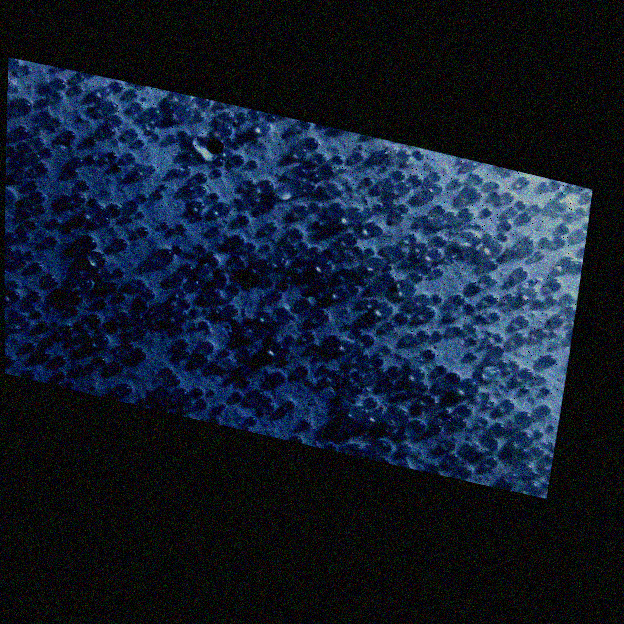GrassBeadSeg: (18, 64, 534, 378), (27, 111, 508, 435), (17, 63, 390, 462), (6, 162, 498, 464), (72, 156, 565, 430), (65, 169, 552, 444), (4, 127, 552, 364), (152, 132, 519, 467), (93, 177, 526, 456), (34, 206, 473, 473), (15, 190, 567, 397), (41, 84, 543, 307), (26, 155, 426, 430), (75, 72, 421, 359), (14, 124, 312, 426), (5, 148, 390, 374), (56, 86, 310, 426), (166, 182, 587, 383), (6, 120, 272, 421), (92, 214, 467, 427), (97, 85, 489, 287), (33, 136, 392, 353), (51, 77, 303, 383), (141, 175, 450, 418), (37, 168, 303, 442), (103, 206, 548, 368), (33, 148, 424, 331), (50, 116, 435, 301), (8, 58, 219, 384), (79, 94, 296, 409), (232, 153, 556, 362), (100, 99, 398, 321), (6, 162, 386, 336), (26, 219, 444, 375), (132, 178, 545, 335), (16, 182, 444, 333), (45, 235, 567, 358), (19, 166, 362, 350), (114, 167, 337, 450), (109, 80, 310, 374), (98, 220, 558, 346), (114, 105, 329, 372), (46, 119, 312, 333), (133, 101, 366, 345), (260, 178, 559, 365), (123, 107, 568, 232), (172, 205, 507, 367), (163, 300, 470, 476), (110, 114, 571, 231), (193, 181, 436, 402), (135, 225, 433, 405), (103, 269, 441, 425), (30, 137, 282, 346), (19, 212, 416, 343), (249, 158, 547, 332), (169, 249, 530, 392), (43, 273, 524, 378), (182, 211, 575, 338), (180, 264, 516, 410), (160, 220, 462, 381), (147, 106, 327, 371), (63, 165, 531, 264), (53, 265, 529, 361), (129, 345, 494, 464), (173, 314, 477, 455), (30, 189, 418, 299), (265, 153, 431, 410), (94, 155, 373, 307), (169, 167, 429, 329), (247, 159, 474, 343), (373, 189, 551, 422), (351, 150, 509, 408), (83, 137, 241, 395), (303, 135, 562, 288), (5, 114, 277, 255), (25, 307, 564, 378), (356, 142, 577, 314), (111, 214, 432, 331), (165, 133, 508, 241), (132, 96, 363, 255), (39, 256, 540, 329), (175, 222, 403, 375), (318, 285, 543, 436), (230, 273, 497, 400), (229, 178, 431, 339), (197, 186, 420, 327), (79, 83, 264, 249), (243, 320, 460, 461), (206, 279, 417, 423), (378, 228, 528, 422), (55, 201, 233, 364), (25, 85, 193, 257), (49, 90, 344, 187), (135, 227, 498, 304), (125, 87, 341, 216), (5, 353, 411, 419), (369, 292, 578, 419), (305, 298, 529, 414), (15, 128, 246, 237), (306, 206, 493, 340), (170, 181, 411, 283), (203, 347, 515, 423), (113, 266, 258, 424), (103, 246, 375, 330), (14, 96, 104, 345), (17, 69, 97, 349), (223, 270, 527, 343), (35, 347, 551, 390), (29, 156, 374, 218), (269, 289, 474, 393), (420, 188, 566, 323), (302, 158, 377, 407), (411, 210, 546, 341), (188, 307, 396, 391), (242, 258, 498, 325), (6, 146, 117, 300), (70, 110, 249, 205), (28, 290, 290, 354), (13, 256, 413, 296), (449, 259, 551, 413), (439, 296, 569, 416), (333, 237, 492, 335), (26, 255, 160, 370), (449, 275, 528, 462), (158, 248, 345, 327), (413, 235, 499, 392), (355, 142, 493, 238), (6, 227, 407, 259), (8, 68, 174, 145), (436, 338, 545, 454), (68, 127, 139, 303), (9, 127, 93, 272), (19, 171, 320, 211), (410, 356, 530, 455), (173, 310, 294, 407), (7, 222, 187, 287), (34, 223, 159, 316), (87, 249, 424, 281), (35, 137, 176, 213), (121, 338, 275, 406), (22, 340, 251, 385), (376, 350, 477, 452), (34, 161, 343, 194), (45, 234, 292, 275), (514, 180, 548, 473), (213, 136, 414, 184), (146, 309, 351, 356), (373, 305, 436, 449), (243, 298, 377, 364), (344, 384, 468, 452), (382, 164, 532, 220), (192, 171, 275, 272), (194, 117, 257, 250), (50, 237, 269, 274), (393, 312, 473, 413), (115, 298, 224, 371), (295, 145, 436, 199), (243, 278, 340, 354), (388, 292, 442, 422), (264, 197, 482, 229), (484, 331, 555, 429), (178, 298, 360, 336), (236, 213, 307, 309), (24, 135, 97, 226), (36, 122, 116, 205), (183, 247, 336, 290), (176, 91, 222, 234), (481, 366, 544, 470), (116, 311, 191, 398), (159, 387, 370, 417), (226, 282, 320, 349), (249, 109, 334, 173), (141, 95, 241, 149), (182, 151, 306, 193), (469, 182, 542, 253), (131, 161, 220, 219), (138, 287, 247, 331), (481, 286, 564, 343), (195, 191, 247, 278), (58, 376, 195, 409), (18, 315, 97, 371), (246, 240, 332, 287), (215, 274, 276, 339), (474, 246, 518, 336), (318, 142, 357, 243), (96, 214, 131, 321), (4, 315, 66, 375), (76, 293, 125, 368), (489, 439, 553, 490), (405, 435, 496, 469), (89, 268, 148, 320), (370, 371, 406, 453), (428, 235, 479, 291), (211, 287, 269, 336), (346, 206, 379, 292), (433, 187, 481, 246), (477, 296, 537, 342), (233, 196, 269, 270), (109, 184, 193, 214), (469, 329, 556, 357), (342, 362, 408, 398), (373, 200, 396, 300), (208, 388, 288, 416), (196, 356, 239, 401), (346, 256, 395, 294), (307, 206, 344, 255), (311, 305, 428, 320), (465, 174, 480, 288), (476, 173, 520, 210), (275, 254, 322, 288), (157, 182, 168, 305), (407, 173, 445, 208), (32, 179, 90, 201), (155, 384, 208, 406), (108, 190, 163, 211), (93, 333, 123, 371), (341, 383, 362, 436), (395, 169, 462, 185), (193, 386, 226, 407), (431, 170, 445, 213), (282, 243, 327, 255), (192, 111, 254, 119), (365, 366, 387, 382), (459, 377, 479, 393), (515, 199, 527, 222), (223, 141, 234, 155), (347, 283, 359, 293), (468, 281, 480, 290)
